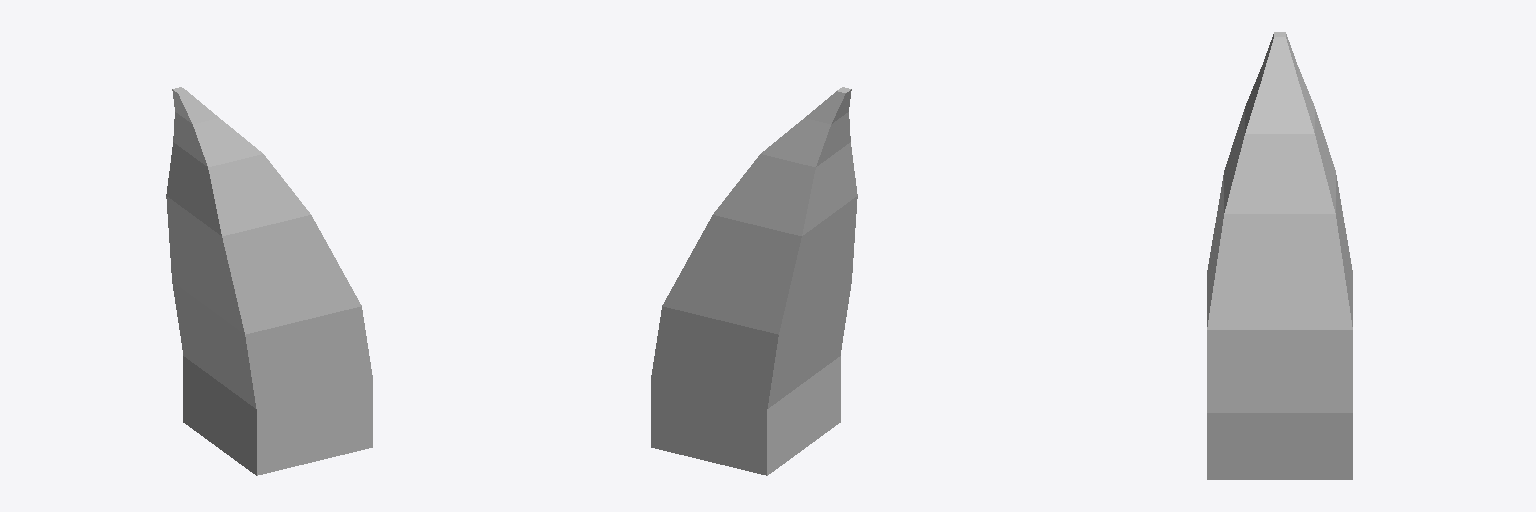
Rendered from mMassiveIceSpike.obj.
3 views of the same model, side by side, from view 1: azimuth 30°, elevation 25°; view 2: azimuth 150°, elevation 25°; view 3: azimuth 270°, elevation 25° (orthographic).
Visible parts, largest first — view 1: mMassiveIceSpike; view 2: mMassiveIceSpike; view 3: mMassiveIceSpike.
Boxes of the visible parts, <box> form: mMassiveIceSpike: <box>166,87,372,475</box>; mMassiveIceSpike: <box>651,87,857,475</box>; mMassiveIceSpike: <box>1207,32,1352,479</box>.
Bounding box in the file's own units: 15.29 × 33.35 × 11.97.